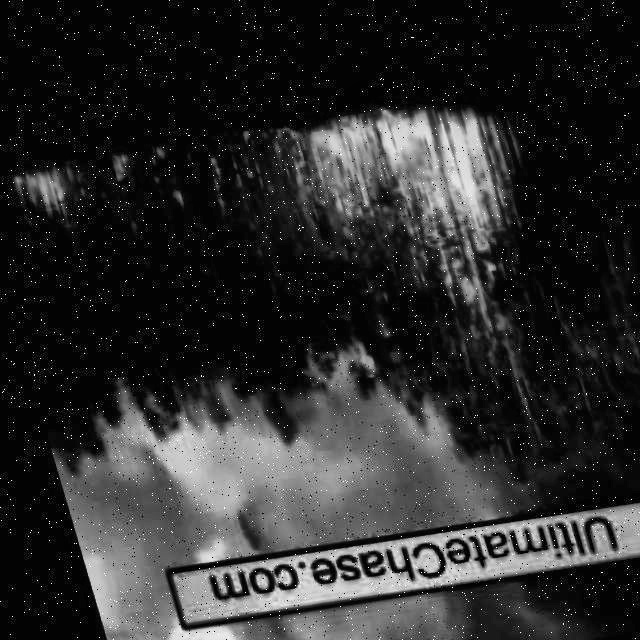Fire: (293, 68, 535, 291), (8, 159, 80, 226), (232, 120, 297, 192), (109, 150, 137, 179)
Smoke: (37, 304, 640, 620), (208, 503, 640, 640)
